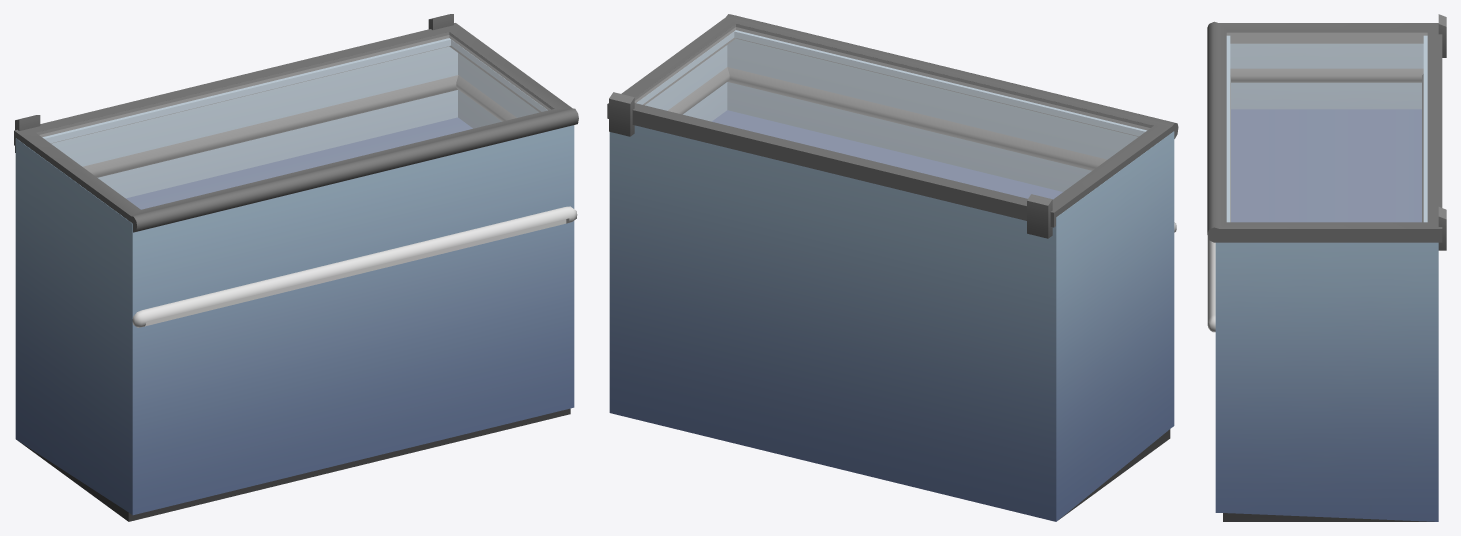
File: fridge_single 2.fbx
3 views of the same model, side by side, from view 1: azimuth 30°, elevation 25°; view 2: azimuth 150°, elevation 25°; view 3: azimuth 270°, elevation 25° (orthographic). The views are drawn at different scales.
Visible parts, largest first — view 1: Freezer_9olxw5, Freezer_9olxw5_Door.001, Freezer_9olxw5_Door; view 2: Freezer_9olxw5, Freezer_9olxw5_Door.001, Freezer_9olxw5_Door; view 3: Freezer_9olxw5, Freezer_9olxw5_Door.001, Freezer_9olxw5_Door.
Part boxes in pixels (bbox=[...]): Freezer_9olxw5: bbox=[15, 14, 577, 521]; Freezer_9olxw5_Door.001: bbox=[37, 32, 553, 209]; Freezer_9olxw5_Door: bbox=[14, 23, 578, 232]; Freezer_9olxw5: bbox=[609, 30, 1176, 521]; Freezer_9olxw5_Door.001: bbox=[635, 24, 1152, 198]; Freezer_9olxw5_Door: bbox=[607, 14, 1178, 227]; Freezer_9olxw5: bbox=[1207, 14, 1446, 521]; Freezer_9olxw5_Door.001: bbox=[1227, 30, 1427, 221]; Freezer_9olxw5_Door: bbox=[1207, 21, 1442, 242].
Bounding box in the file's own units: 48.4 × 33.31 × 23.8.
3 materials, 2 textured.
